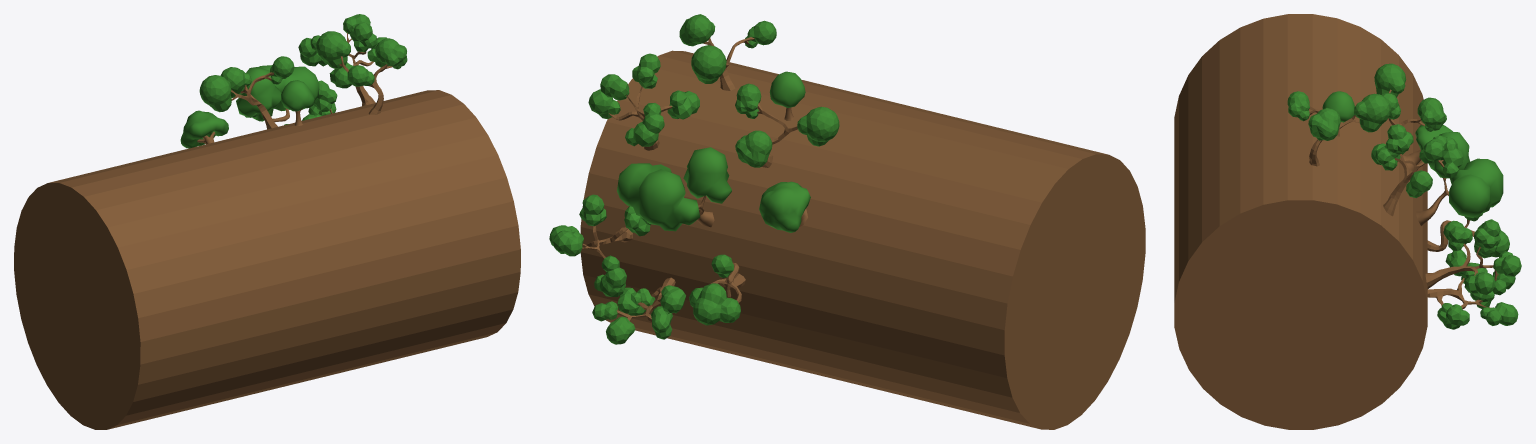
3 renders of one model, left to right at view 1: azimuth 30°, elevation 25°; view 2: azimuth 150°, elevation 25°; view 3: azimuth 270°, elevation 25°, orthographic. The views are drawn at different scales.
Visible parts, largest first — view 1: Cylinder; view 2: Cylinder; view 3: Cylinder.
Boxes of the visible parts, x1=… form: Cylinder: x1=14, y1=14, x2=520, y2=429; Cylinder: x1=549, y1=14, x2=1145, y2=429; Cylinder: x1=1174, y1=14, x2=1521, y2=429.
Bounding box in the file's own units: 17.66 × 12.98 × 13.94.
